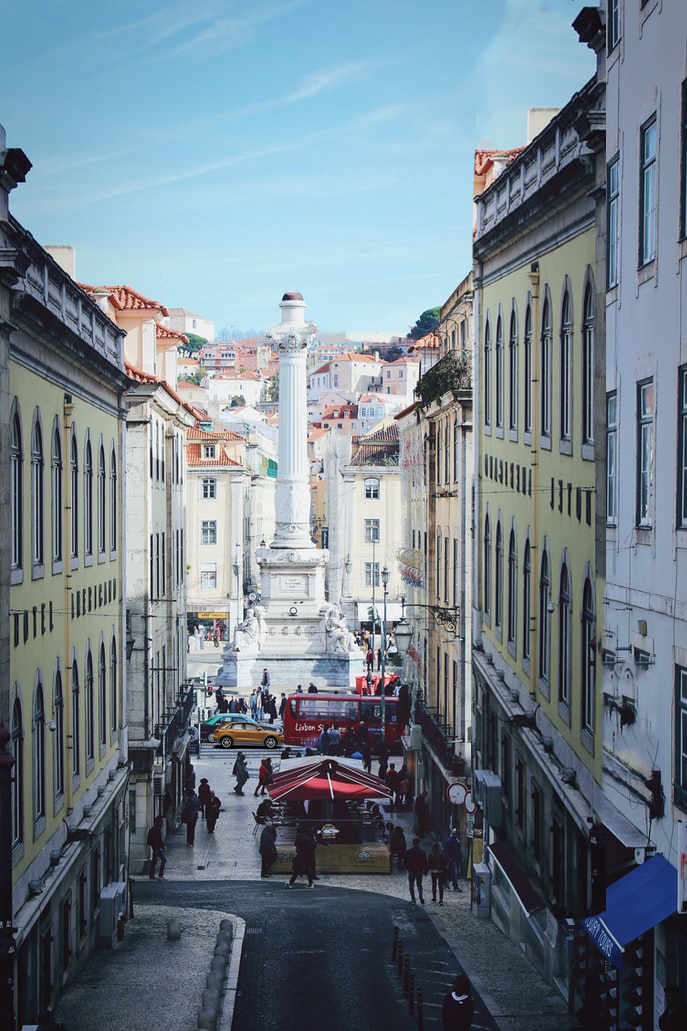copymove: (474, 94, 604, 926)
removal: (281, 229, 309, 294)
spliced: (208, 717, 286, 747)
